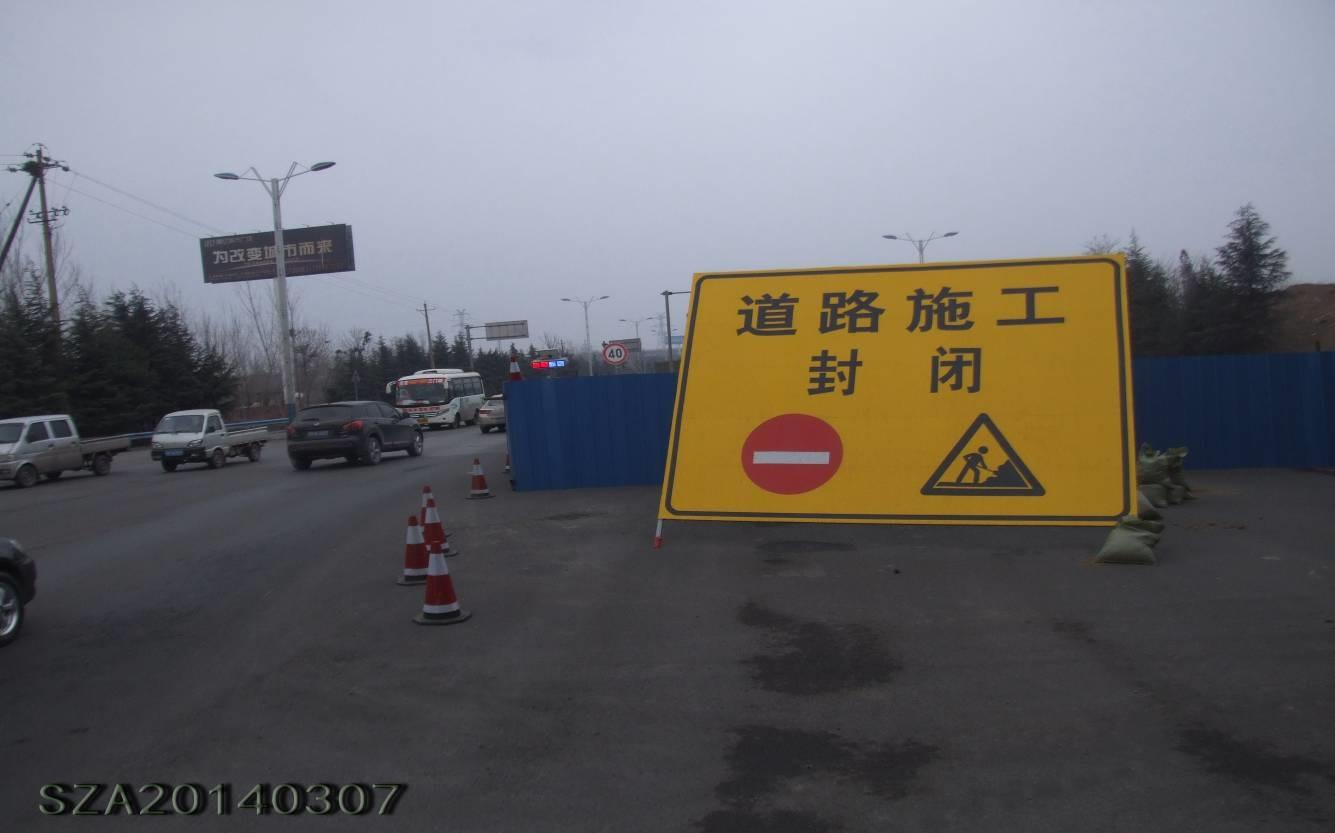sign: (690, 275, 1130, 521)
